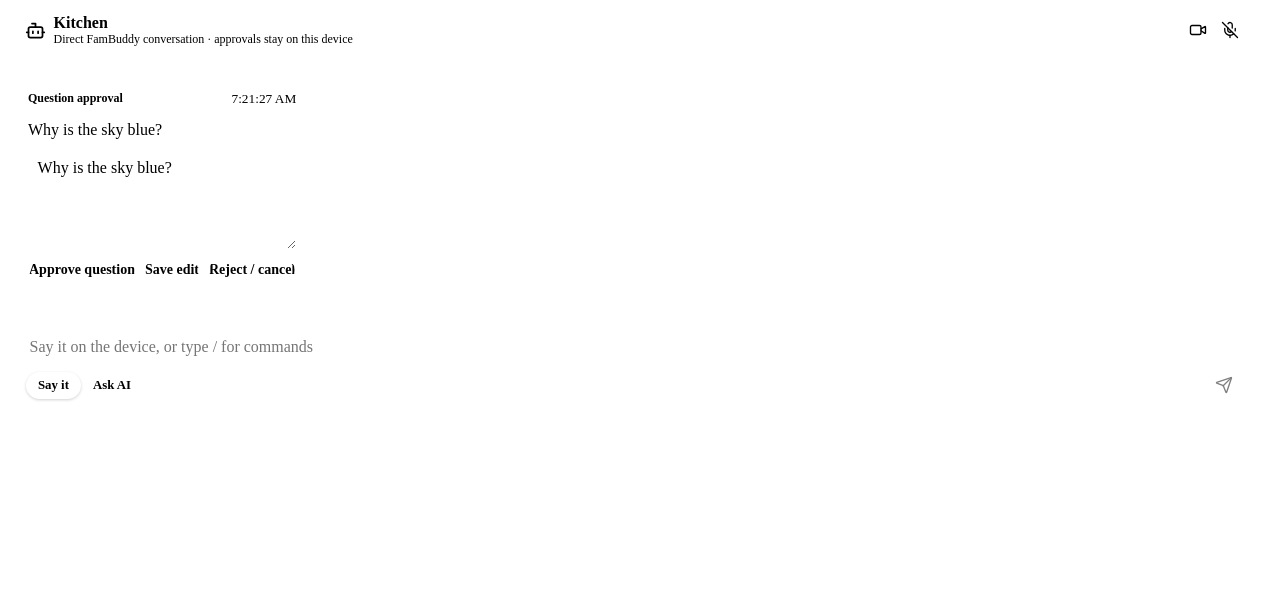
sends direct and broadcast announcements
Type "Hello Kitchen" into the dropdown named "Message FamBuddy" at (638, 347), box [24,329,1251,365]
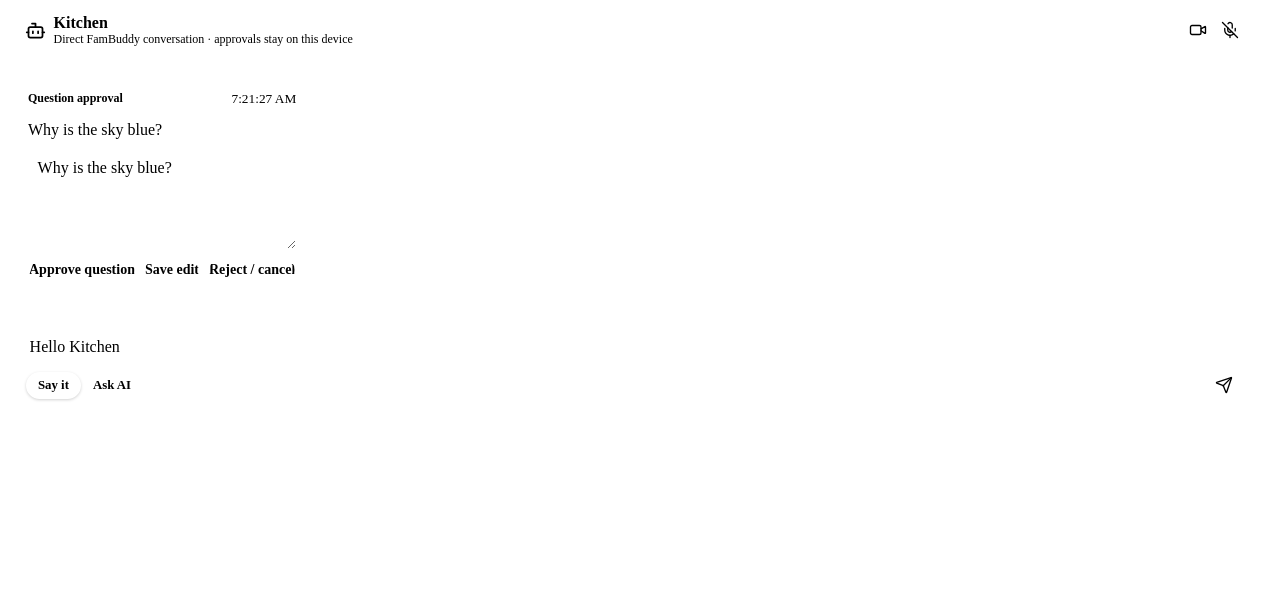
Click the button named "Send to FamBuddy" at (1224, 385), box [1208,374,1240,396]
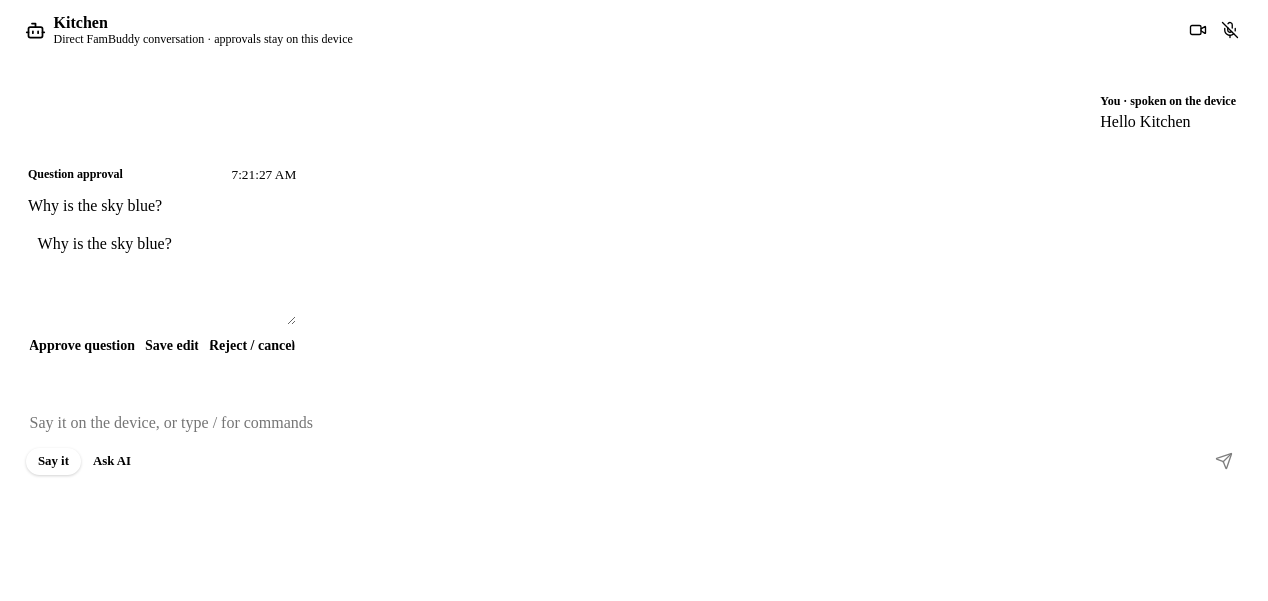
Type "/broadcast Dinner" into the dropdown named "Message FamBuddy" at (638, 423), box [24,405,1251,441]
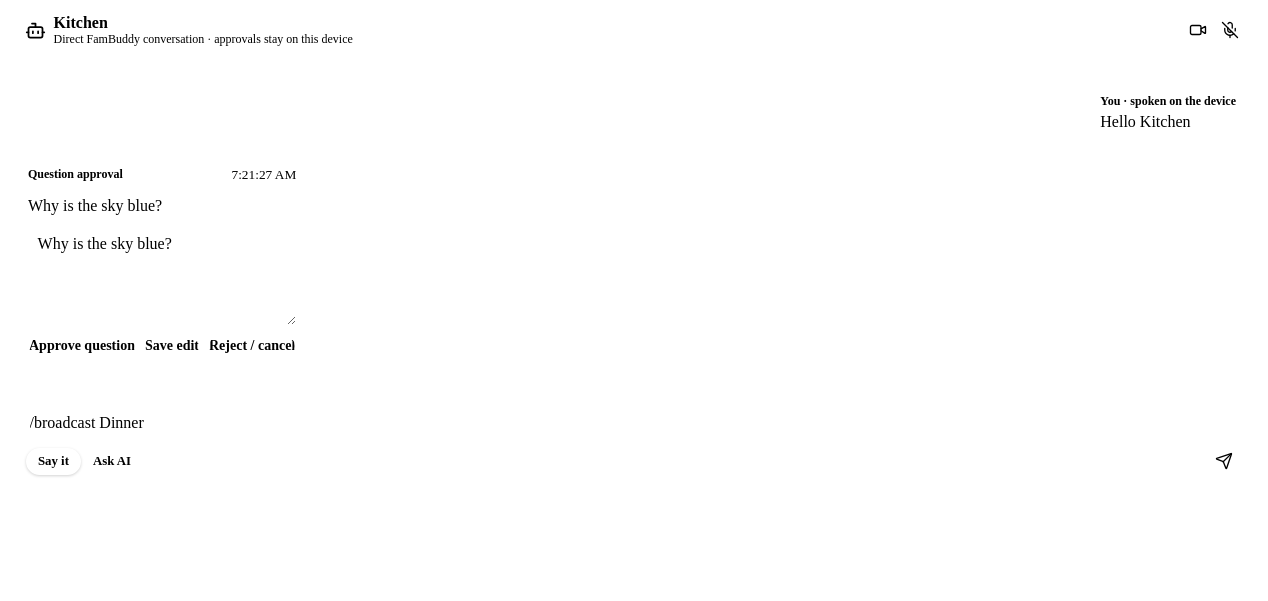
Click the button named "Send to FamBuddy" at (1224, 461), box [1208,450,1240,472]
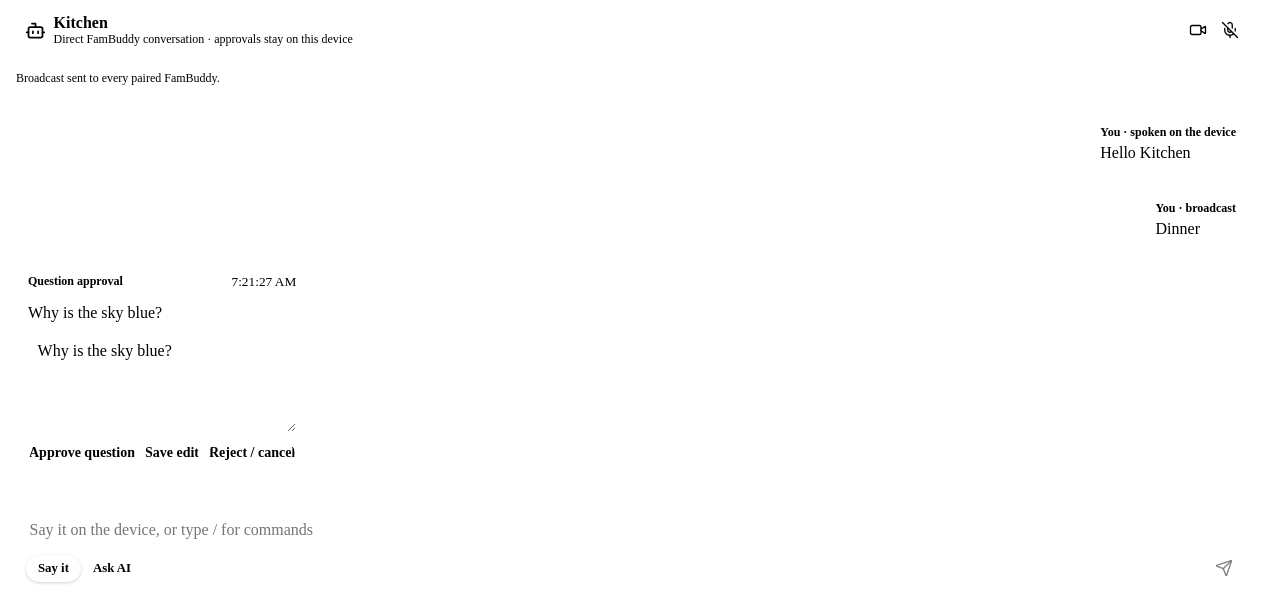
Result: the text "You · broadcast" is shown at [1156,201,1236,215]
